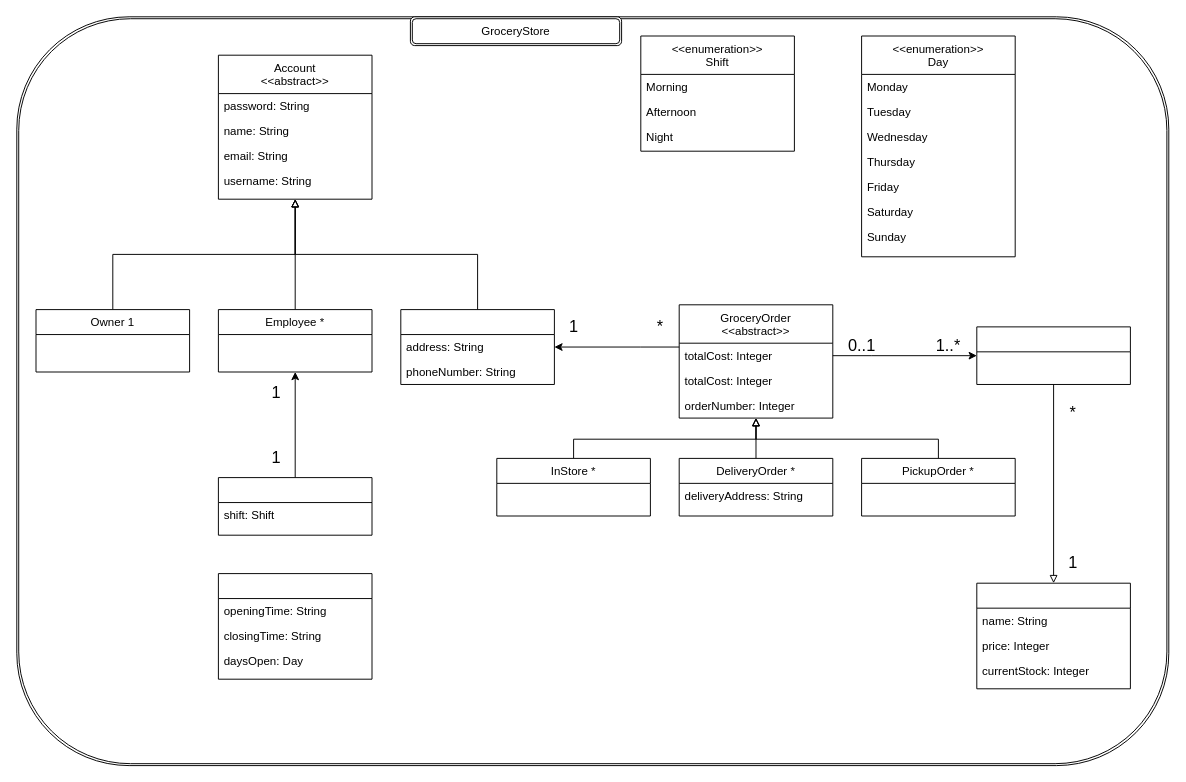
Image size: 1186x782. Some labels were removed from this diagram. The shapes that lost their labels are listed below. From the top down, each one's box as (x1, y1, x2, y2) in pixels, then its label:
(400, 309, 554, 384): Customer *
(976, 326, 1130, 384): Item *
(217, 477, 372, 535): EmployeeSchedule *
(217, 573, 372, 679): StoreSchedule 1
(976, 582, 1130, 689): InventoryItem *
